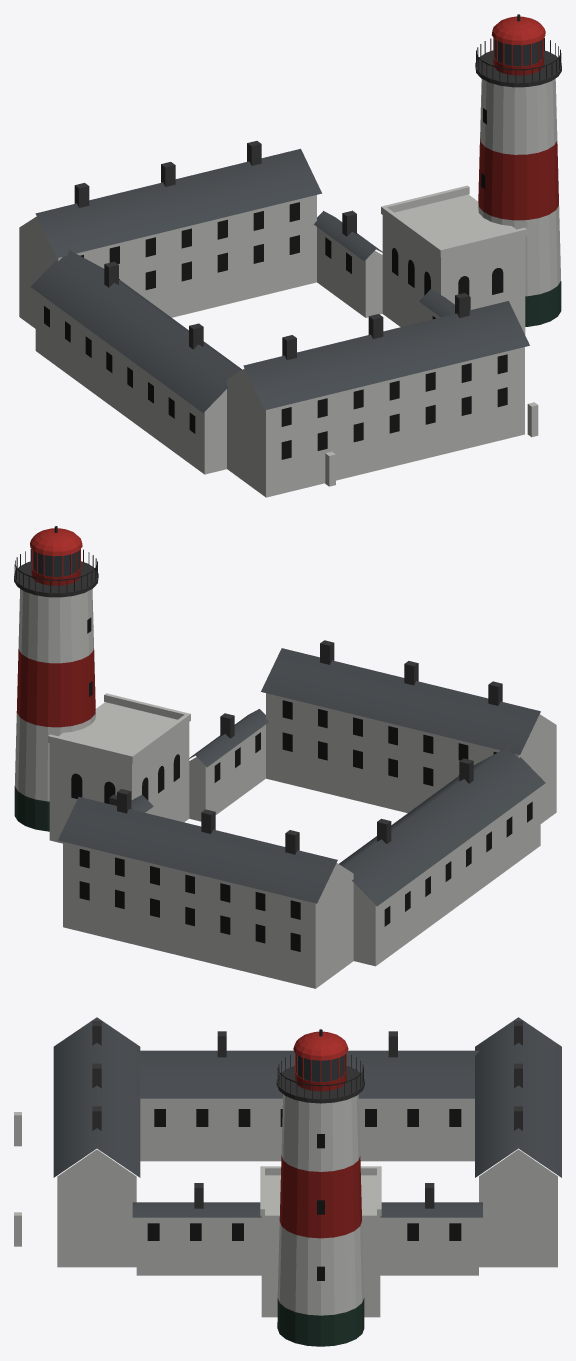
The model's file is souter.glb.
3 renders of one model, top to bottom at view 1: azimuth 30°, elevation 25°; view 2: azimuth 150°, elevation 25°; view 3: azimuth 270°, elevation 25°, orthographic. The views are drawn at different scales.
Visible parts, largest first — view 1: tower#far, roofs, windows, lantern; view 2: tower#far, roofs, windows, lantern; view 3: tower#far, roofs, lantern, windows.
Boxes of the visible parts, <box> form: tower#far: <box>19,55,561,497</box>; roofs: <box>30,148,529,412</box>; windows: <box>44,108,507,459</box>; lantern: <box>475,14,561,87</box>; tower#far: <box>14,566,556,988</box>; roofs: <box>58,648,545,906</box>; windows: <box>71,617,532,951</box>; lantern: <box>14,526,98,597</box>; tower#far: <box>14,1021,557,1346</box>; roofs: <box>53,1017,561,1217</box>; lantern: <box>276,1029,364,1103</box>; windows: <box>147,1109,461,1280</box>.
Bounding box in the file's own units: 39.65 × 25 × 41.6.
